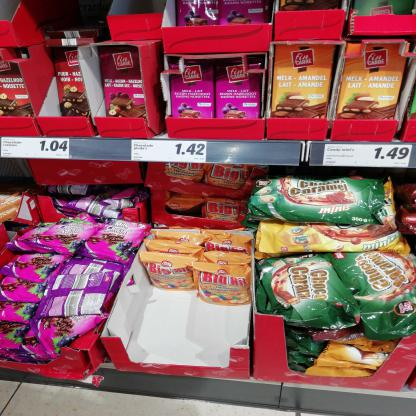prtg: (324, 145, 413, 168), (132, 141, 208, 163), (2, 138, 70, 160)
